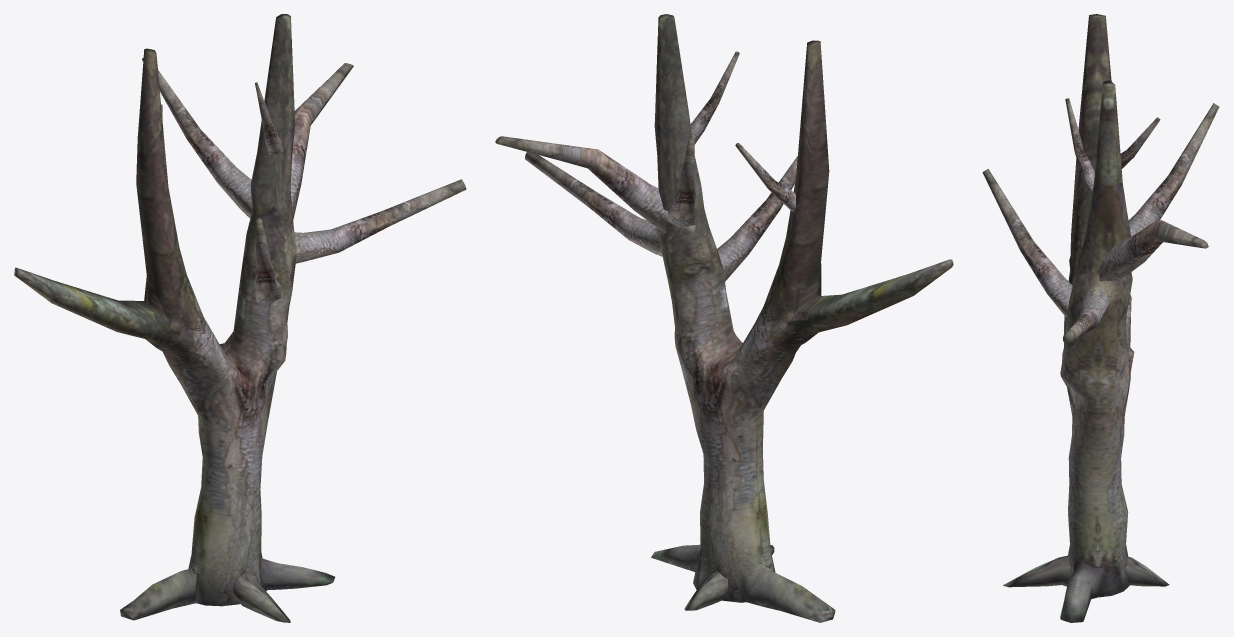
The picture shows the model from 3 angles, left to right: view 1: azimuth 30°, elevation 25°; view 2: azimuth 150°, elevation 25°; view 3: azimuth 270°, elevation 25°; orthographic projection. The views are drawn at different scales.
Parts seen in each view (by area): view 1: U3DMesh; view 2: U3DMesh; view 3: U3DMesh.
Boxes of the visible parts, x1,y1,x2,y2 form: U3DMesh: [14, 14, 466, 622]; U3DMesh: [495, 14, 953, 622]; U3DMesh: [982, 14, 1219, 622].
Size of the model in its own units: 239 by 294 by 118.
1 material, 1 textured.
